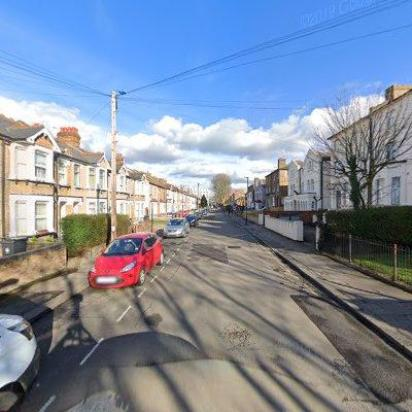stationary-car-onstreet: (88, 232, 166, 292), (162, 217, 189, 239), (184, 213, 198, 226)
stationary-light-truck-onstreet: (0, 310, 42, 412)
